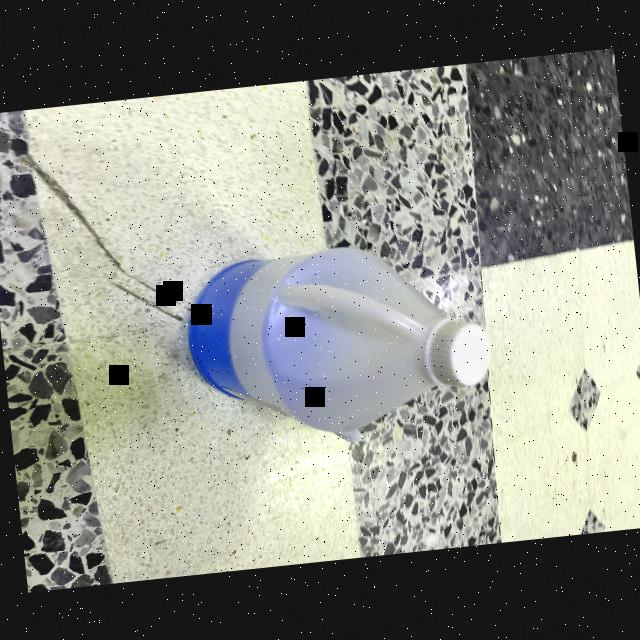chemical_plastic_gallon: (157, 224, 514, 458)
